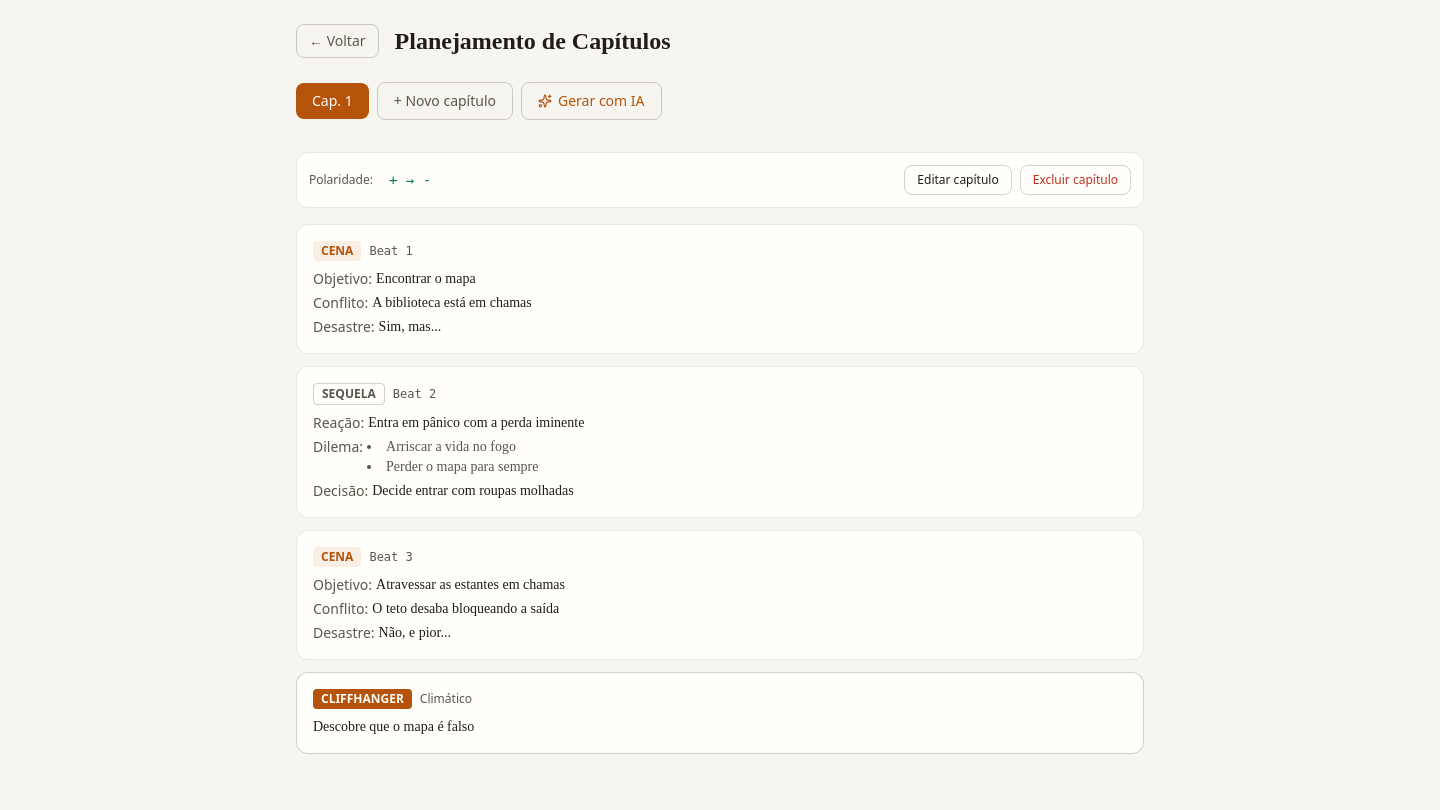
Test: ChaptersPage › edita um capítulo existente com o formulário pré-preenchido
Click the button "Editar capítulo" at (958,180), box [904,165,1012,195]
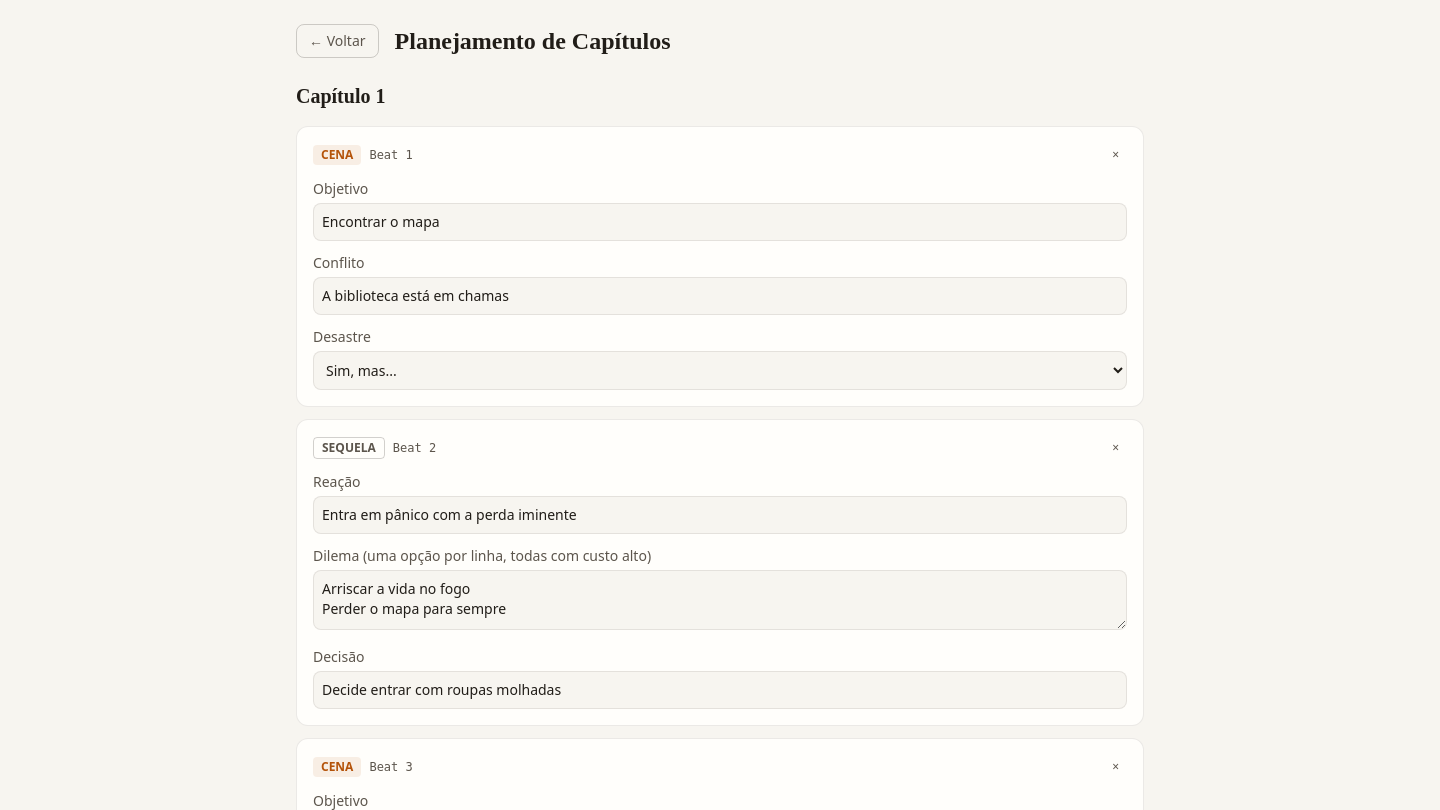
Now the field labelled "Objetivo" holds "Encontrar o mapa"
Replace the text in the field labelled "Objetivo" with "Encontrar o diário secreto" at (720,222), box [313,203,1127,241]
(page scrolled)
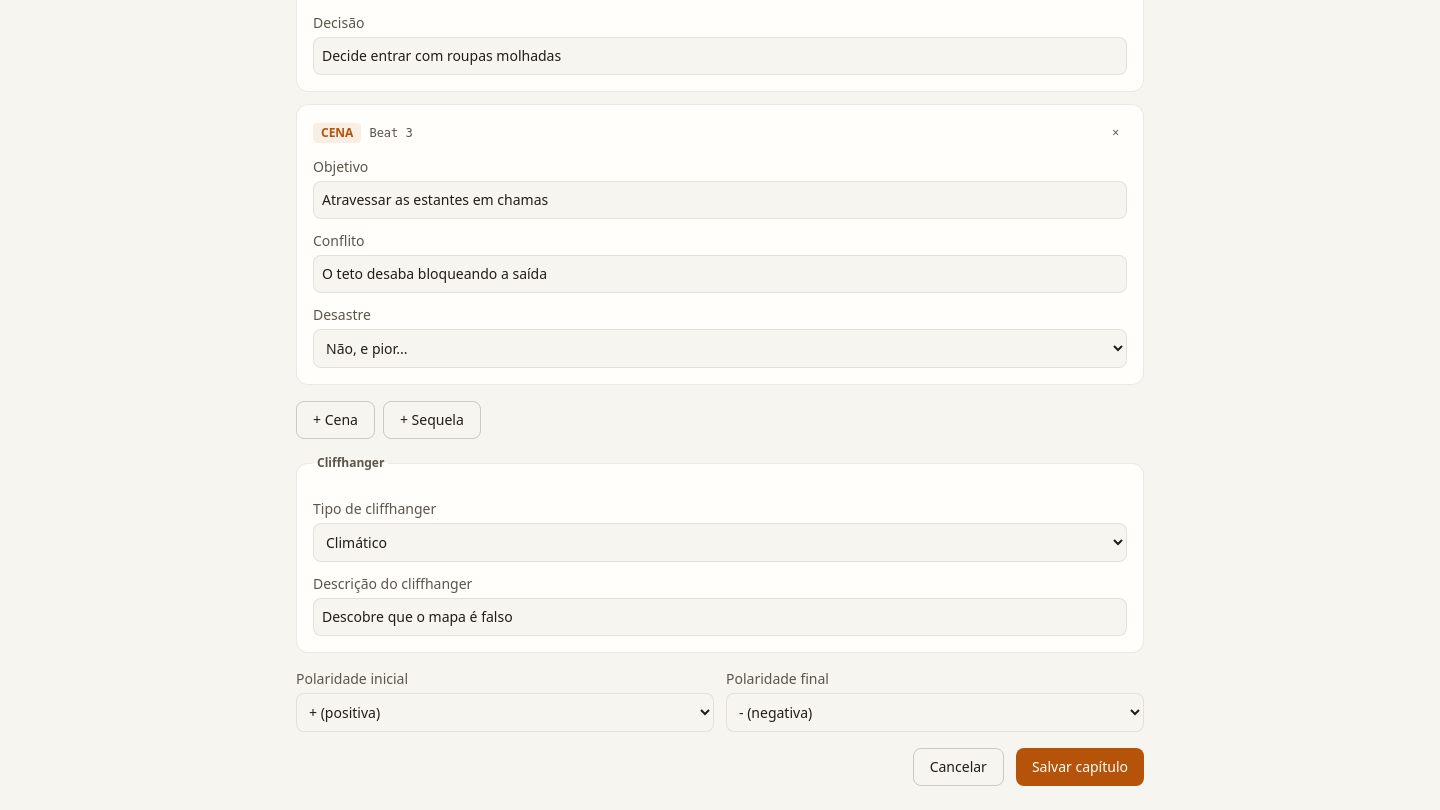
Click the button "Salvar capítulo" at (1080,767), box [1016,748,1144,786]
(page scrolled)
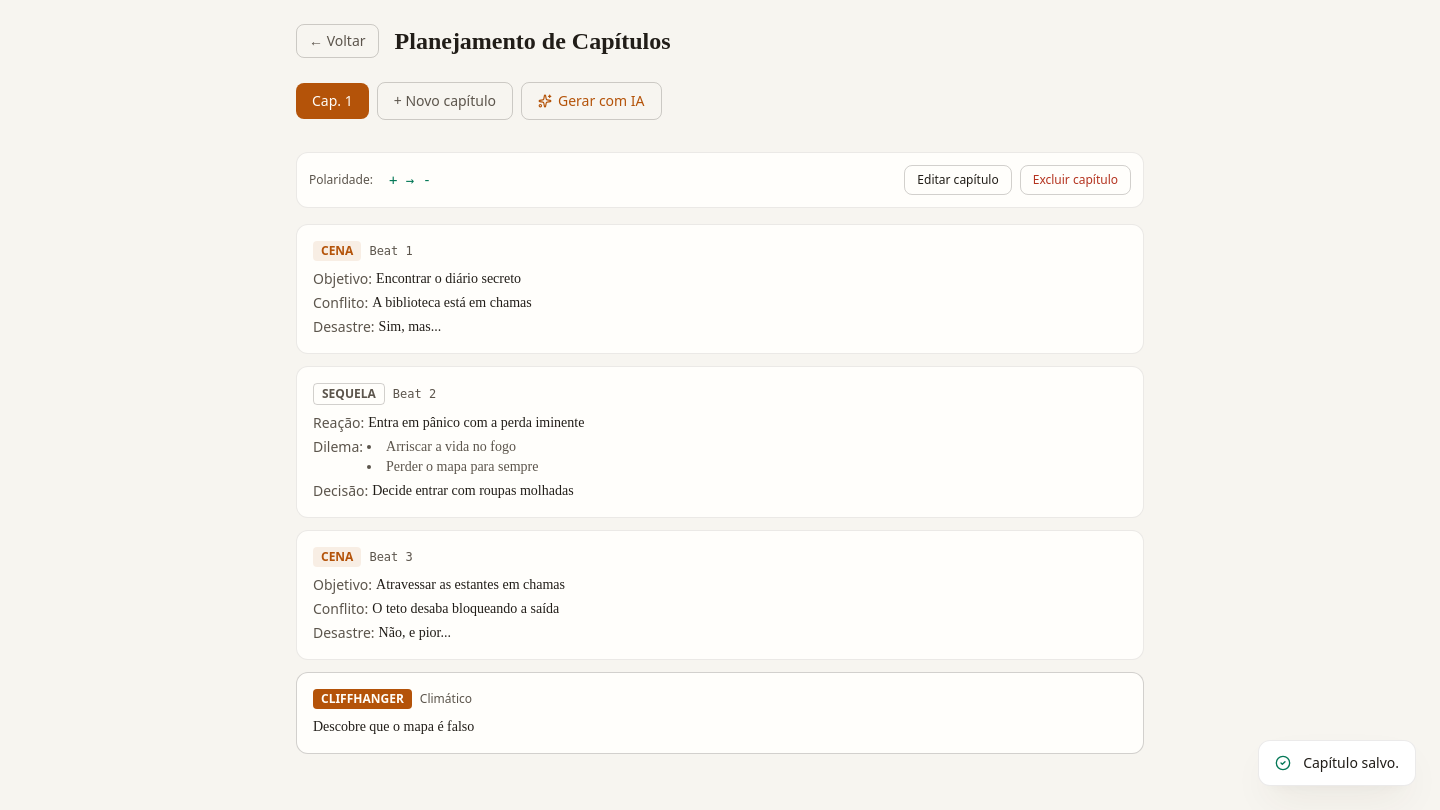
Now the text "Encontrar o diário secreto" is shown, box [376,269,521,289]
